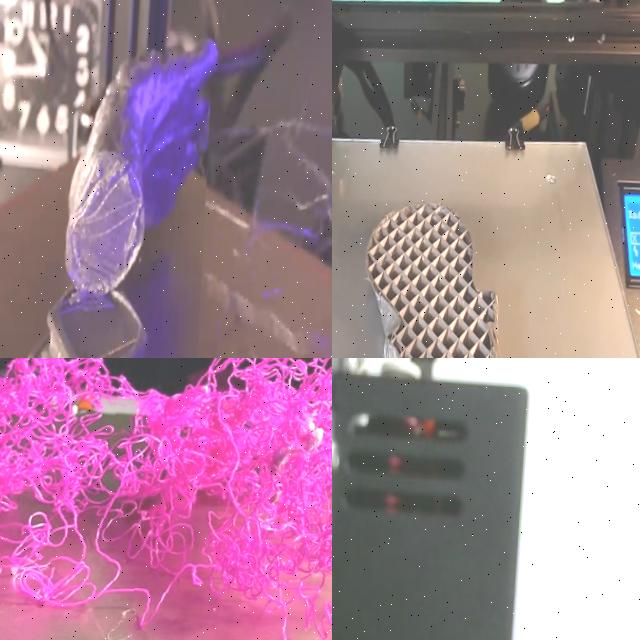spaghetti: (0, 358, 332, 640), (194, 66, 332, 358)
